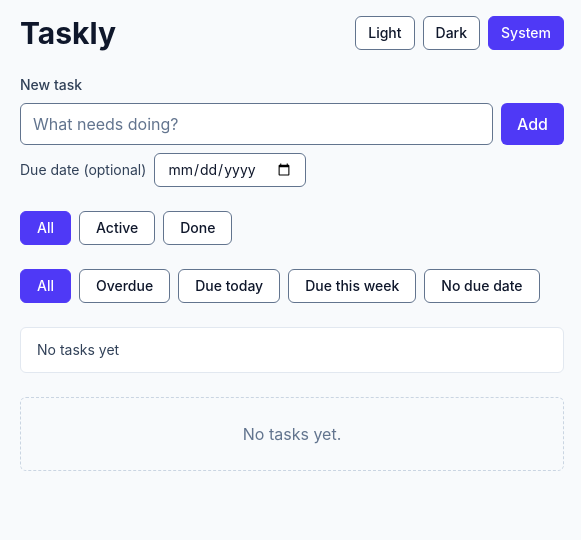
App › filters › shows "No completed tasks." under Done when every task is active
Type "Buy milk" into the field labelled "New task" at (256, 124), box [20, 103, 493, 145]
Then press Enter
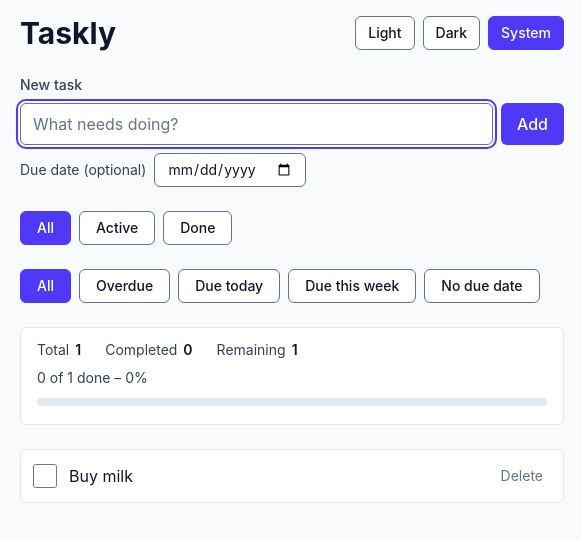
Click the button "Done" at (198, 228), box [163, 211, 232, 245]
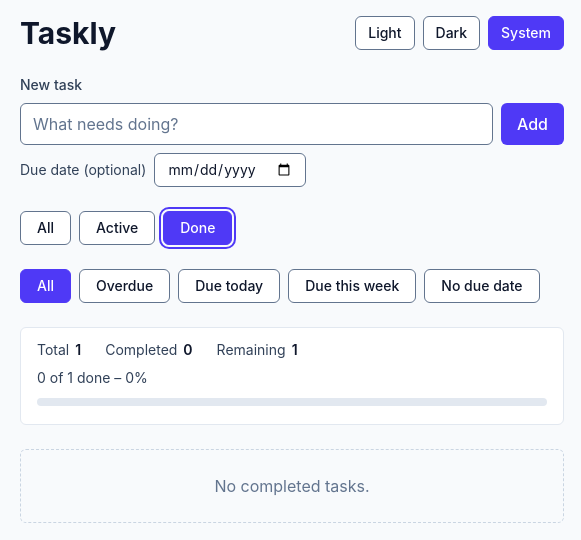
expect the text "No tasks yet." is not shown: met
expect the text "No completed tasks." is shown: met, box [20, 449, 564, 523]
